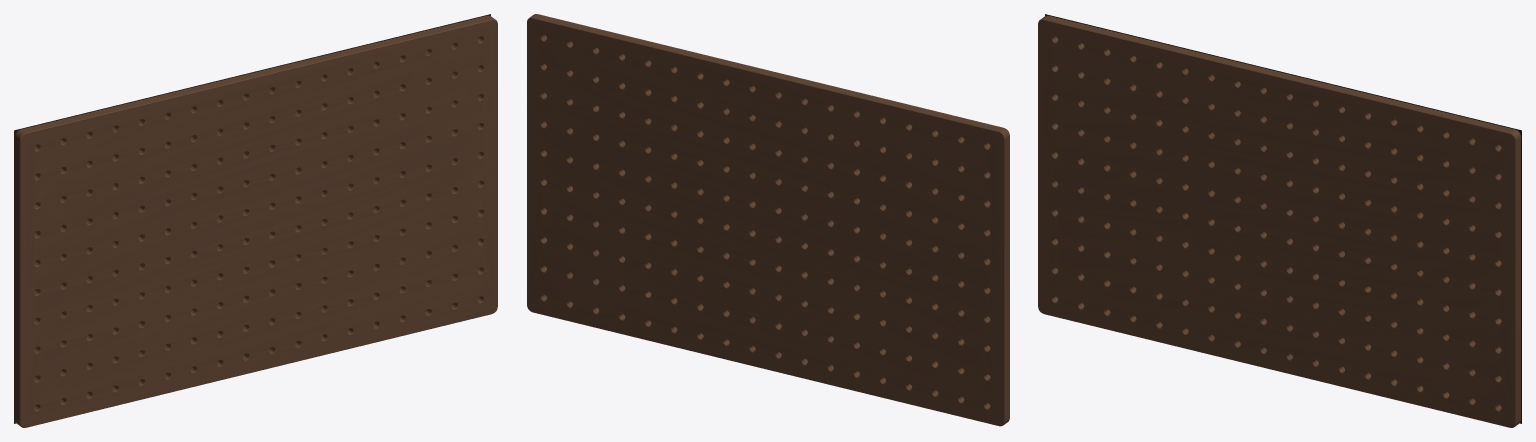
Rendered from pegboard.glb.
3 renders of one model, left to right at view 1: azimuth 30°, elevation 25°; view 2: azimuth 150°, elevation 25°; view 3: azimuth 330°, elevation 25°, orthographic.
Visible parts, largest first — view 1: Regular walnut pegboard, Recessed backing; view 2: Regular walnut pegboard; view 3: Regular walnut pegboard, Recessed backing.
Part boxes in pixels (x1,y1,x2,y2): Regular walnut pegboard: [15, 15, 497, 427]; Recessed backing: [14, 14, 490, 423]; Regular walnut pegboard: [527, 14, 1009, 426]; Regular walnut pegboard: [1038, 15, 1520, 427]; Recessed backing: [1045, 14, 1521, 423].
Size of the model in its own units: 6.82 by 4.02 by 0.1628.
